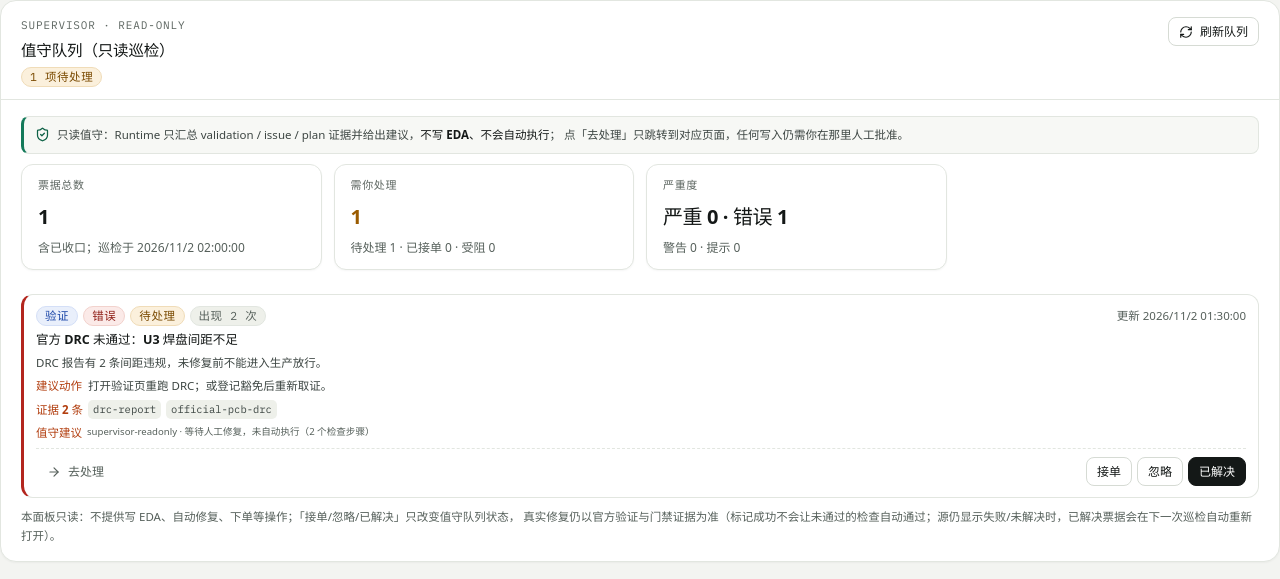
只读 Agent 值守队列（SupervisorPanel） › 点击「忽略」先确认；确认后 POST dismiss 并从队列移除
Click the button "忽略".
click(1160, 472)  # box [1137, 457, 1183, 486]
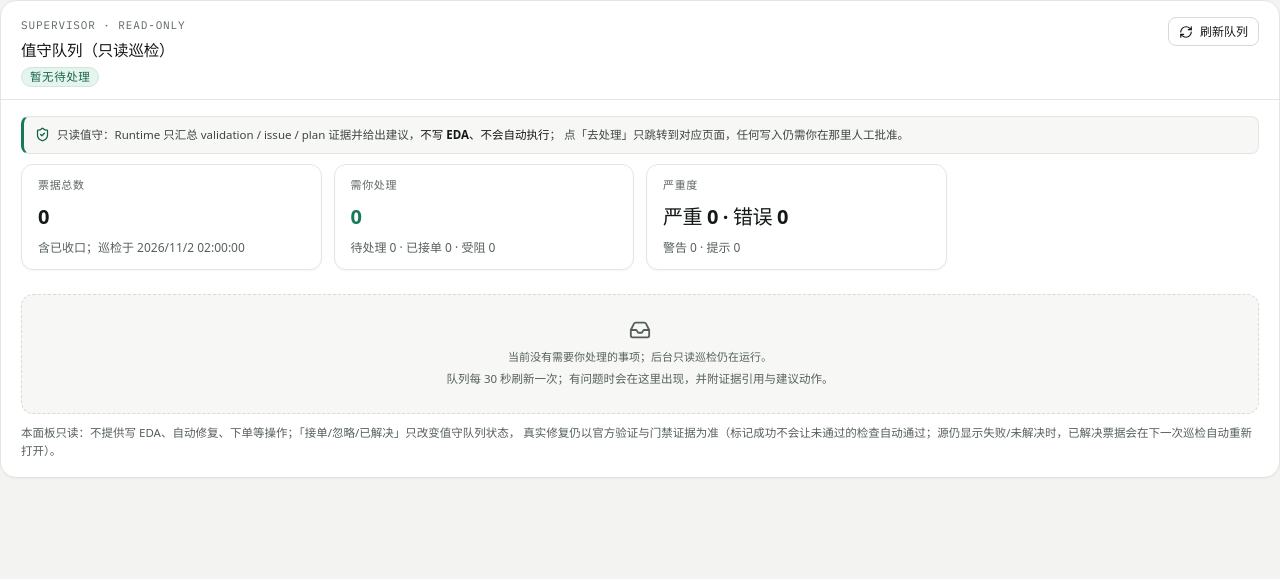
Expected: the text "当前没有需要你处理的事项" is shown, [508, 349, 772, 364]
